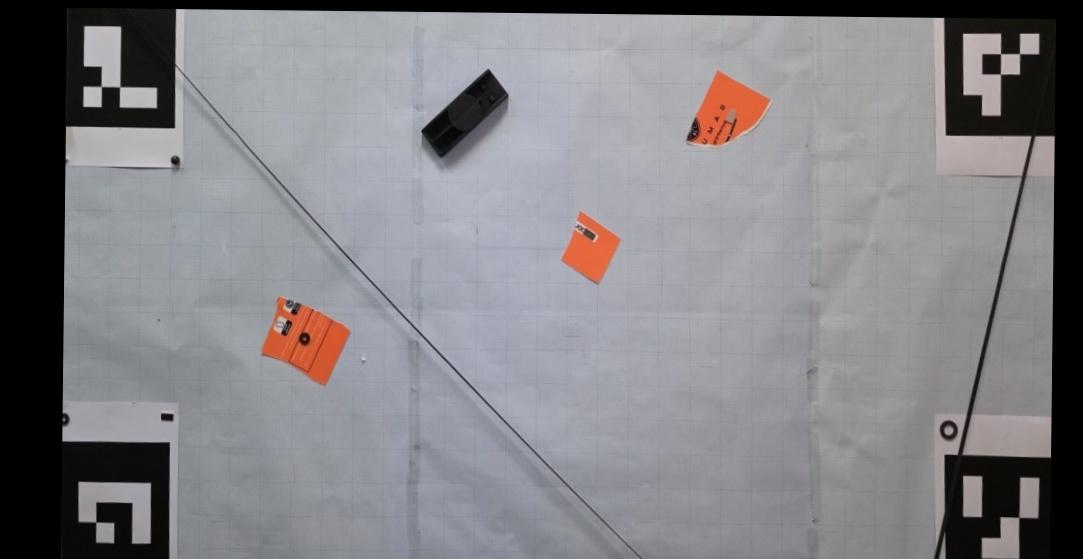obstacle: (261, 297, 350, 385), (421, 68, 508, 158), (686, 69, 771, 149), (561, 209, 620, 285)
